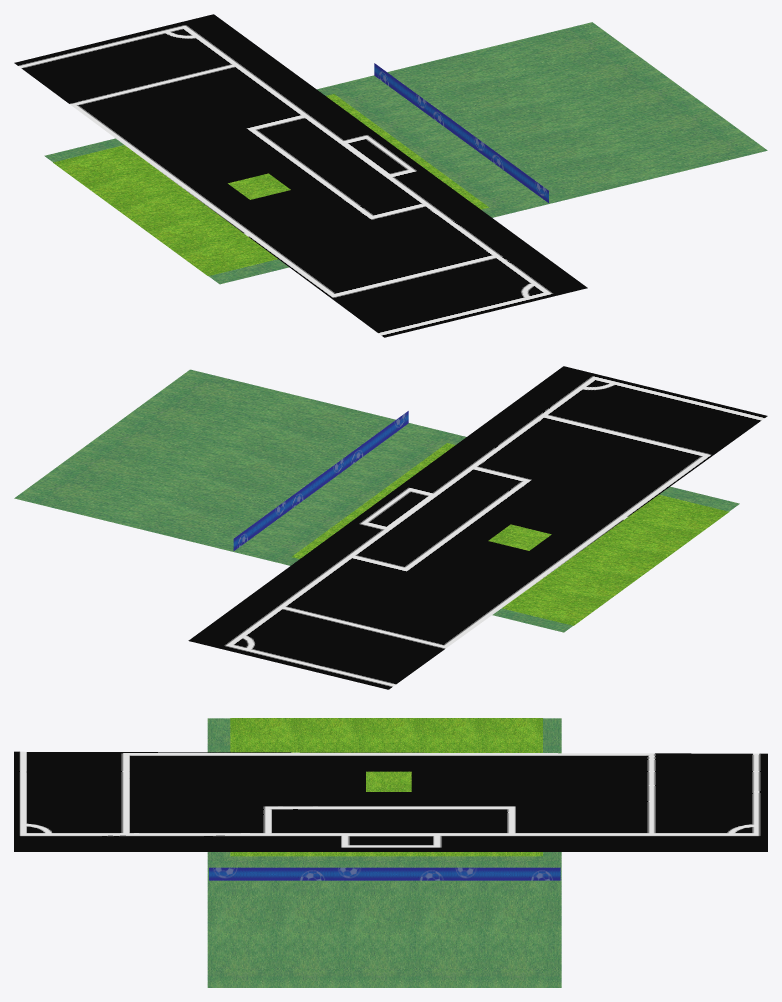
The model's file is ground.glb.
The picture shows the model from 3 angles, top to bottom: view 1: azimuth 30°, elevation 25°; view 2: azimuth 150°, elevation 25°; view 3: azimuth 270°, elevation 25°; orthographic projection.
Parts seen in each view (by area): view 1: ground_lines, ground, court, banner; view 2: ground_lines, ground, court, banner; view 3: ground_lines, ground, court, banner.
Part boxes in pixels (<box>): ground_lines: <box>14,14,587,337</box>; ground: <box>44,22,767,284</box>; court: <box>53,94,488,275</box>; banner: <box>374,63,548,202</box>; ground_lines: <box>188,366,767,689</box>; ground: <box>14,369,739,632</box>; court: <box>292,443,728,625</box>; banner: <box>233,411,408,550</box>; ground_lines: <box>14,751,767,851</box>; ground: <box>207,718,561,987</box>; court: <box>230,718,542,856</box>; banner: <box>209,867,560,880</box>.
Size of the model in its own units: 26.52 by 0.6004 by 31.33.
Materials: 4 (4 with a texture image).
